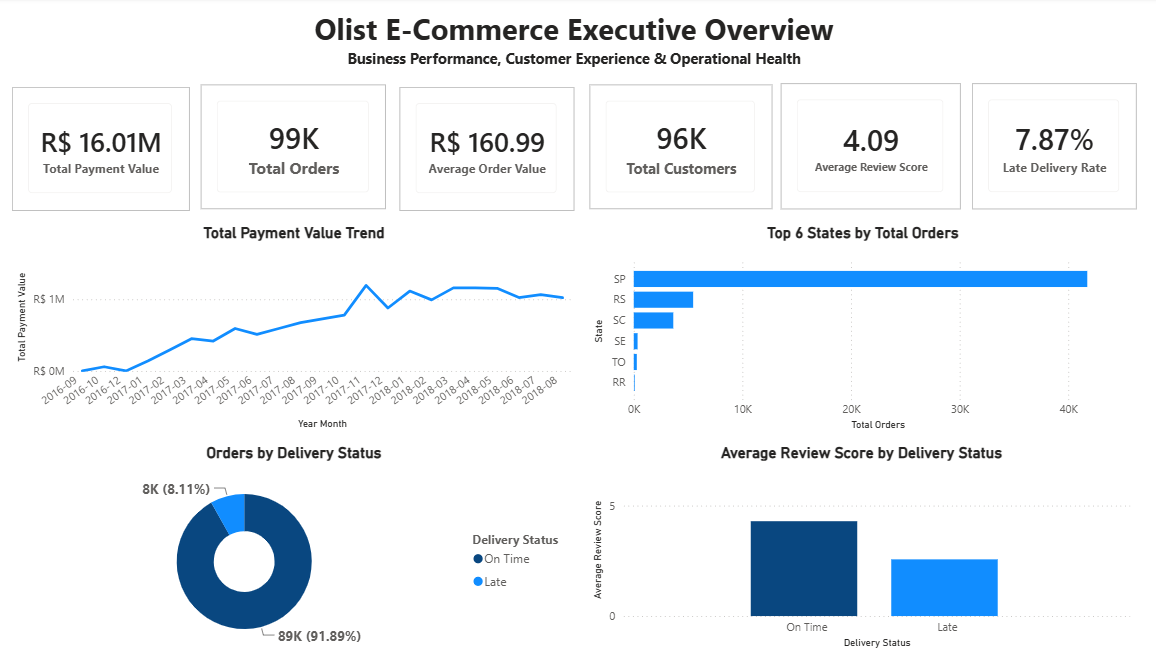

This screenshot's page, from the dashboard's own definition file:
{"tool":"powerbi","page":{"name":"Executive Overview","canvas":[1280,720],"ordinal":0},"visuals":[{"type":"textbox","box":[21.8,8.5,1234.1,76.5],"z":0},{"type":"cardVisual","title":"Total Payment Value","fields":{"Data":["Revenue & Sales measures.Total Revenue"]},"box":[21.7,98.2,194.9,135.7],"z":1000},{"type":"cardVisual","fields":{"Data":["Revenue & Sales measures.Total Orders"]},"box":[229.5,96.7,203.5,137.1],"z":2000},{"type":"cardVisual","fields":{"Data":["Revenue & Sales measures.Average Order Value"]},"box":[447.5,98.2,192,135.7],"z":3000},{"type":"cardVisual","fields":{"Data":["customer experience measures.Total Customers"]},"box":[655.3,96.7,200.6,137.1],"z":4000},{"type":"cardVisual","fields":{"Data":["customer experience measures.Average Review Score"]},"box":[866,95.3,197.7,138.6],"z":5000},{"type":"cardVisual","fields":{"Data":["Delivery Performance Measures.Late Delivery Rate"]},"box":[1075.3,95.3,180.4,138.6],"z":6000},{"type":"lineChart","title":"Total Payment Value Trend","fields":{"Y":["Revenue & Sales measures.Total Revenue"],"Category":["Date.Year Month"]},"box":[21.7,248.3,619.2,230.9],"z":7000},{"type":"barChart","title":"Top 6 States by Total Orders","fields":{"Category":["swiftcart_order_analysis.customer_state"],"Y":["Revenue & Sales measures.Total Orders"]},"box":[655.3,248.3,600.5,232.4],"z":8000},{"type":"donutChart","title":"Orders by Delivery Status","fields":{"Y":["Revenue & Sales measures.Total Orders"],"Category":["swiftcart_order_analysis.delivery_status"]},"box":[21.7,490.5,619.2,229.5],"z":9000},{"type":"clusteredColumnChart","title":"Average Review Score by Delivery Status","fields":{"Category":["swiftcart_order_analysis.delivery_status"],"Y":["customer experience measures.Average Review Score"]},"box":[655,490.5,600,229.5],"z":10000}]}

Visuals, with their boxes in screenshot pixels (x1, y1, x2, y2), scaled from the page's 1280x720 canvas onto the 1156x650 screenshot:
textbox: [20,8,1134,77]
"Total Payment Value" cardVisual: [20,89,196,211]
cardVisual - Revenue & Sales measures.Total Orders: [207,87,391,211]
cardVisual - Revenue & Sales measures.Average Order Value: [404,89,578,211]
cardVisual - customer experience measures.Total Customers: [592,87,773,211]
cardVisual - customer experience measures.Average Review Score: [782,86,961,211]
cardVisual - Delivery Performance Measures.Late Delivery Rate: [971,86,1134,211]
"Total Payment Value Trend" lineChart: [20,224,579,433]
"Top 6 States by Total Orders" barChart: [592,224,1134,434]
"Orders by Delivery Status" donutChart: [20,443,579,649]
"Average Review Score by Delivery Status" clusteredColumnChart: [592,443,1133,649]
